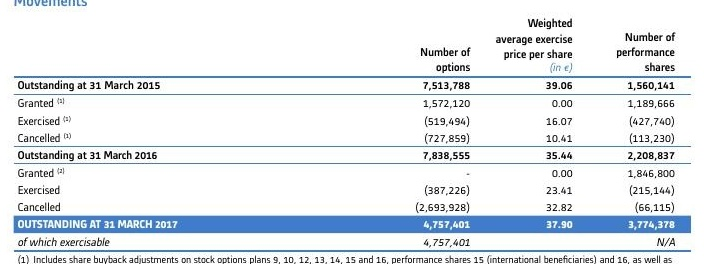table: (0, 0, 704, 264)
